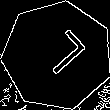L_SW: (27, 27, 87, 84)
